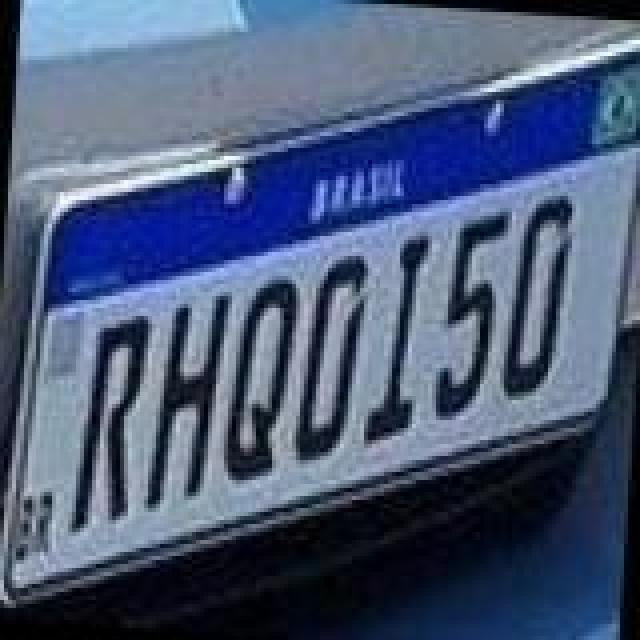5: (430, 200, 514, 424)
D: (496, 190, 576, 402), (294, 250, 370, 470)
H: (142, 288, 234, 520)
I: (360, 228, 432, 452)
Q: (222, 272, 306, 488)
R: (68, 308, 156, 540)
